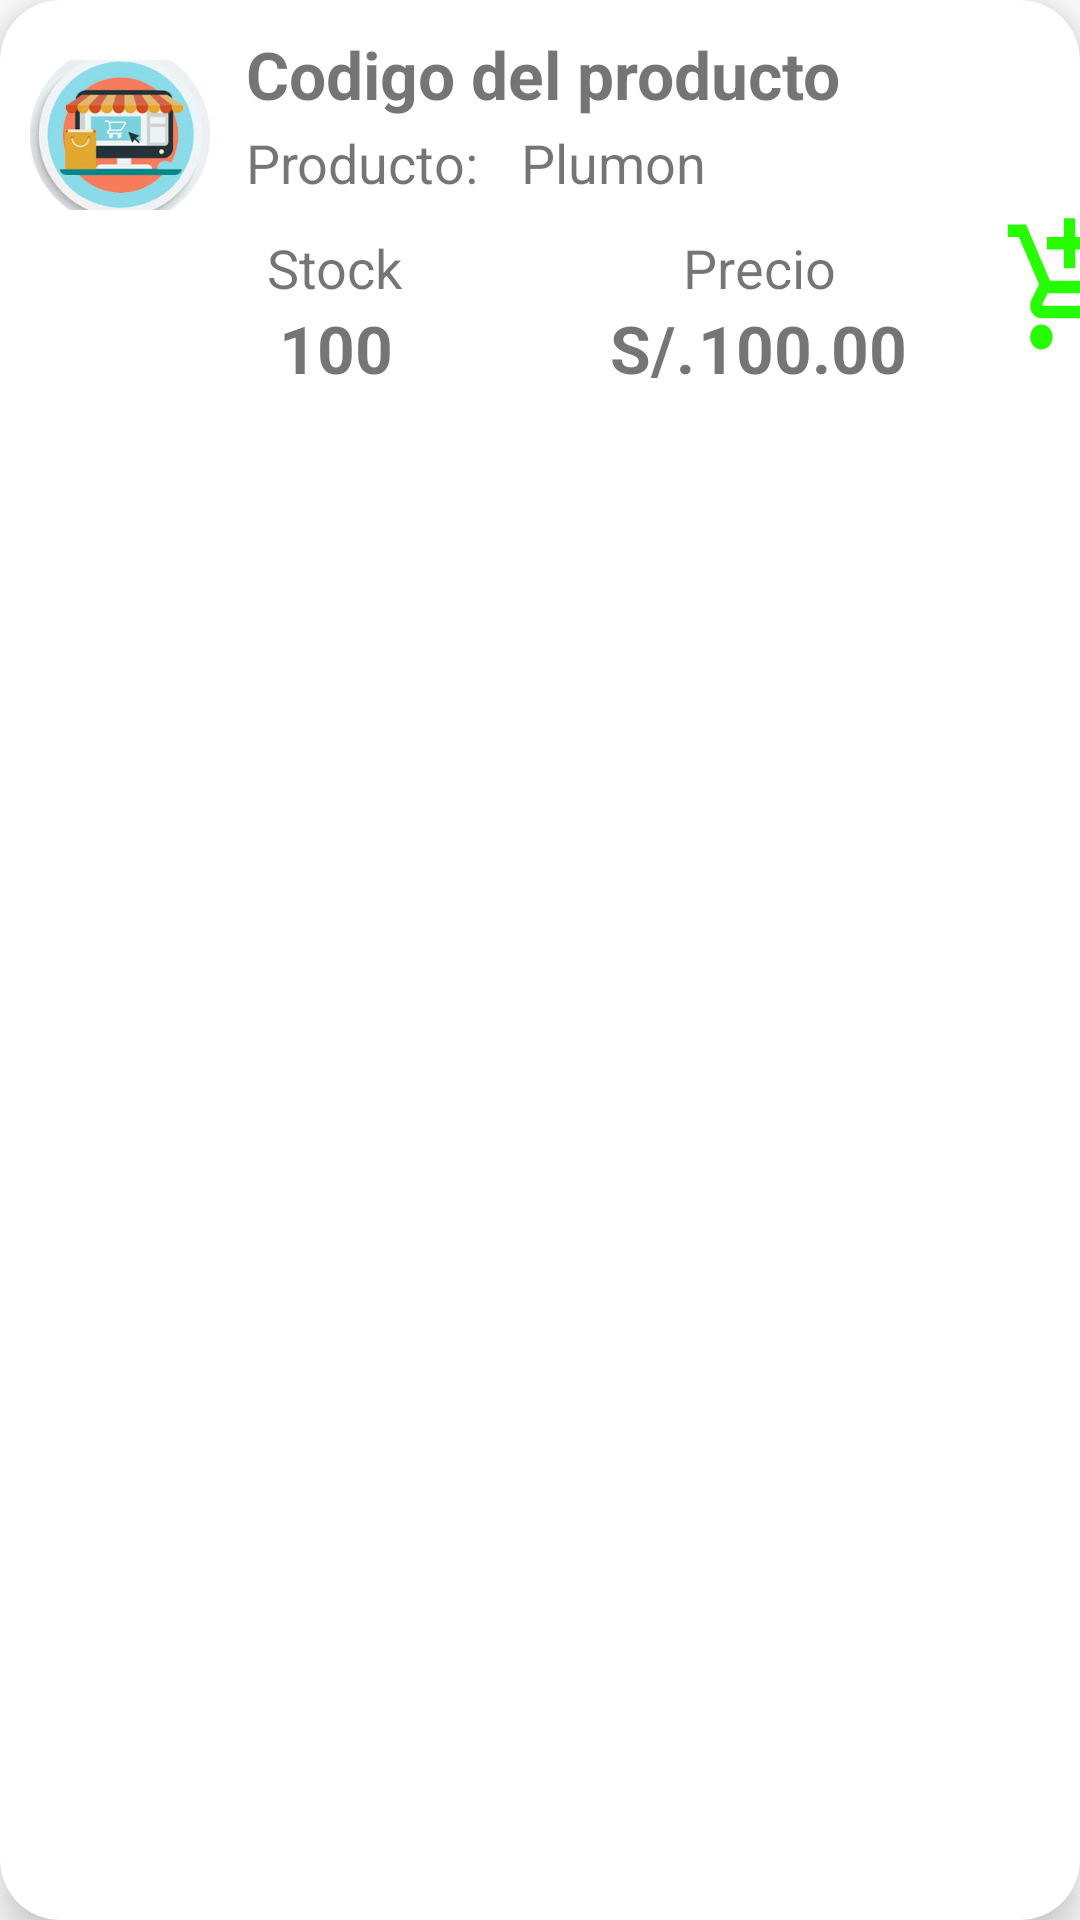

Where to tap for icons on this 1080×1920 app screen, as [x,y]:
ventas: [113,135]
